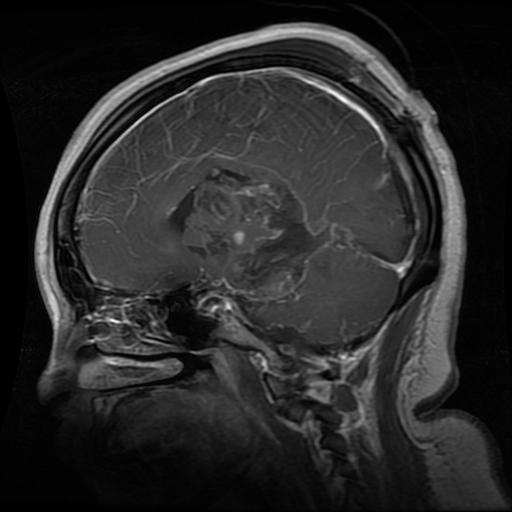Gliomia_tumour: (163, 165, 352, 302)
